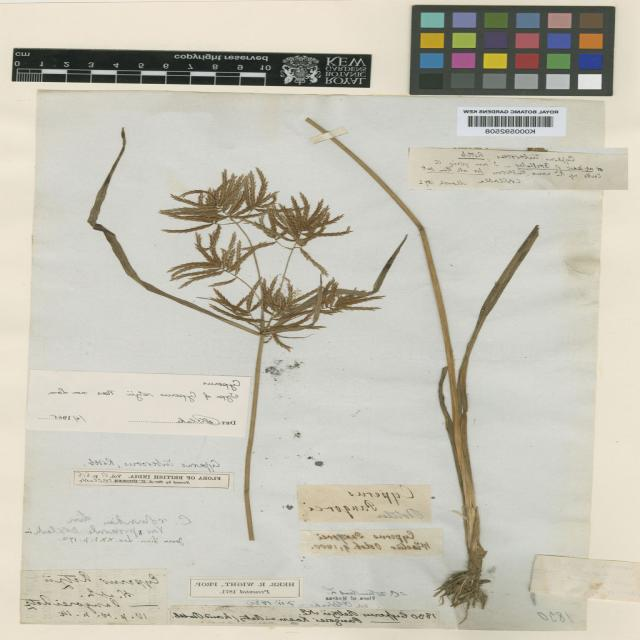cyperus: (168, 168, 354, 342)
